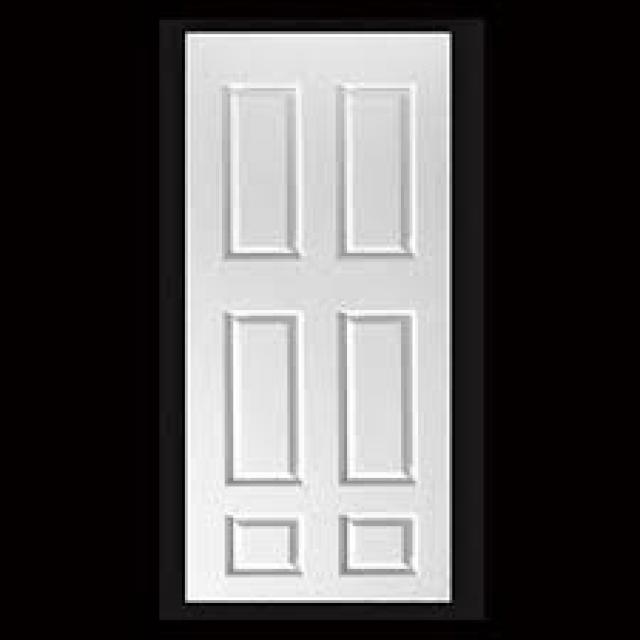door: (182, 30, 455, 607)
